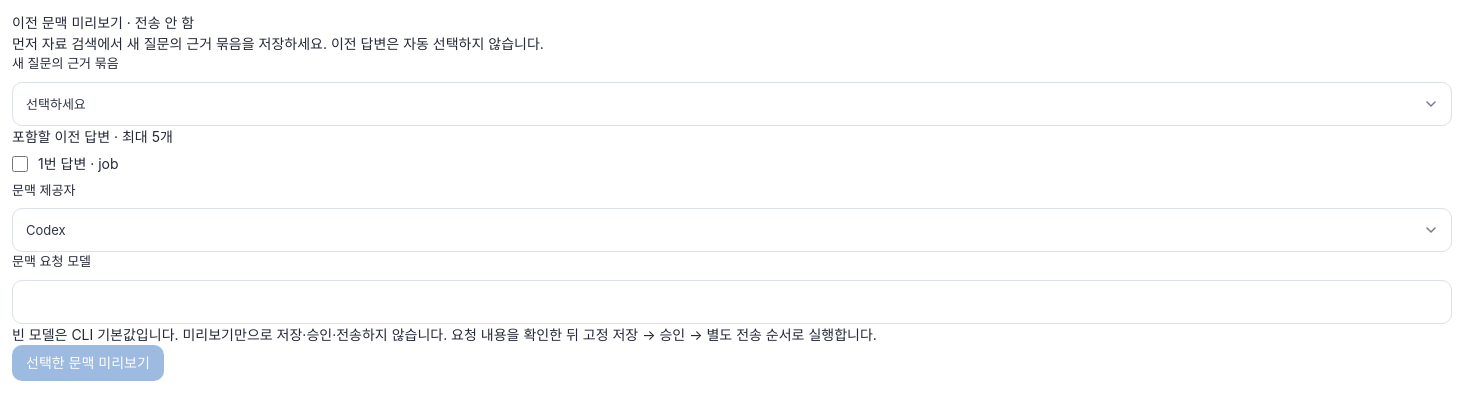
변경된 근거 오류를 표시하고 승인이나 전송을 하지 않는다
The image size is (1464, 416).
Select "새 질문 · bundle" in the dropdown labelled "새 질문의 근거 묶음": (732, 104) [12,82,1452,126]
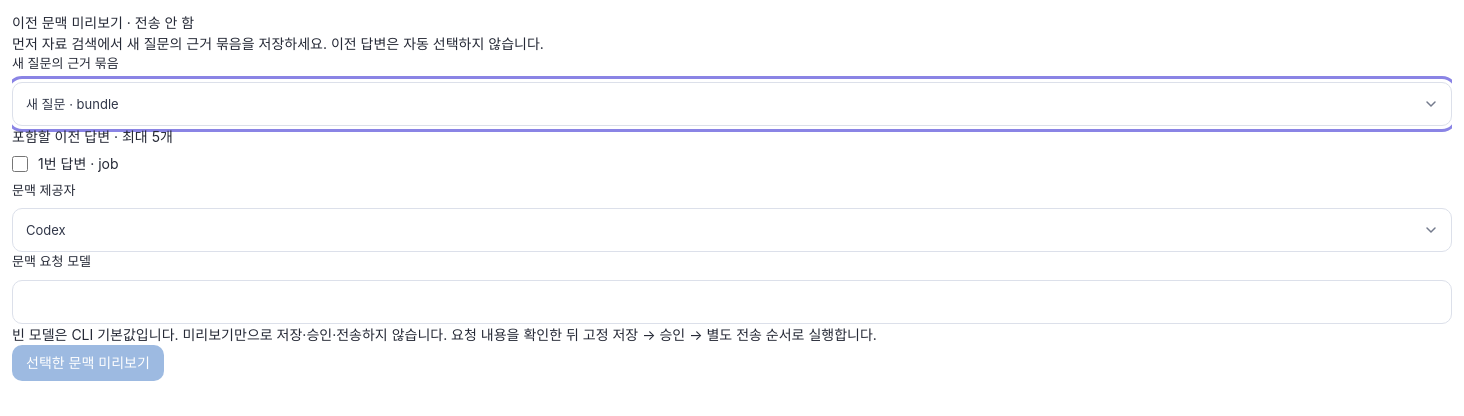
Click the checkbox: (20, 164) [12,156,28,172]
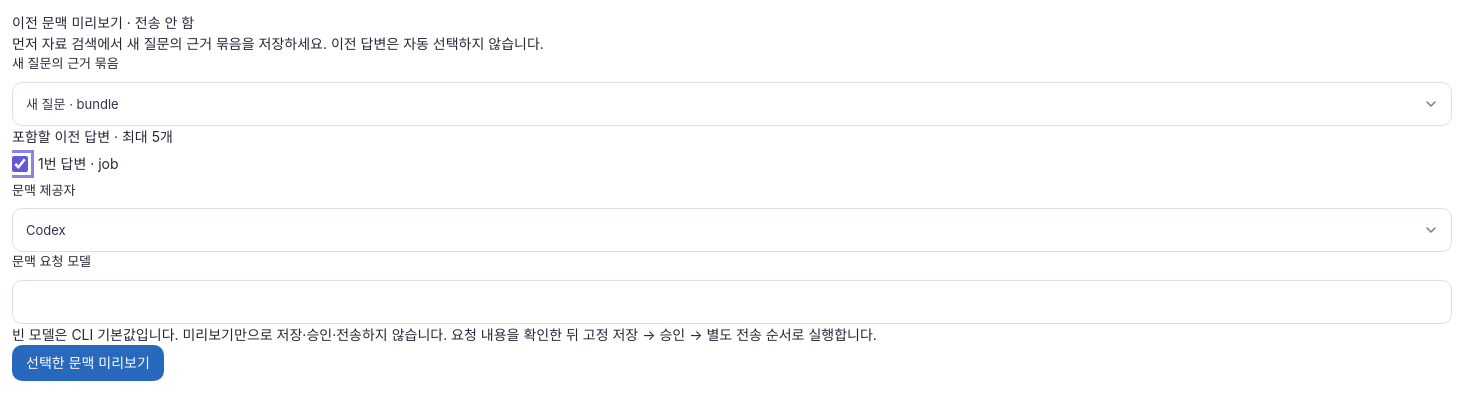
Click the button "선택한 문맥 미리보기": (88, 363) [12,345,164,381]
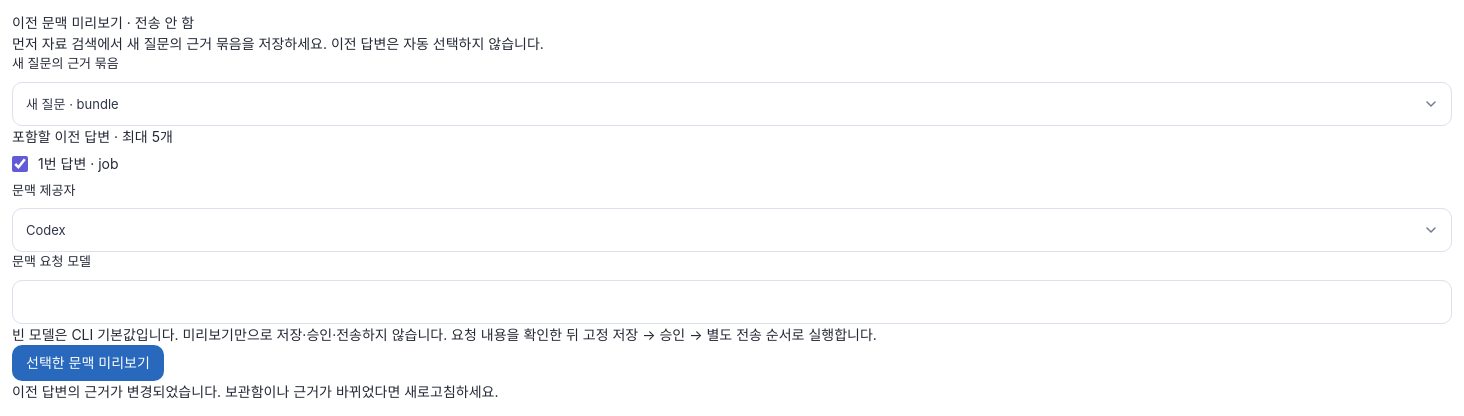
Expected: the message shows "근거가 변경", [12,383,221,400]
